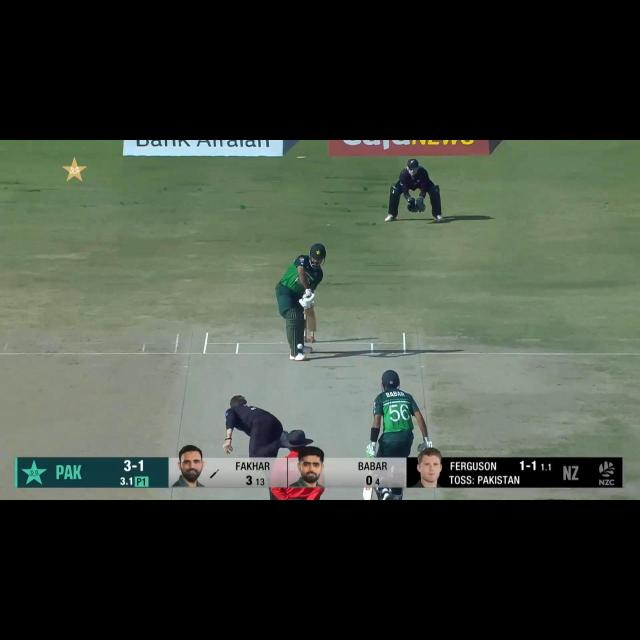bat: (303, 308, 319, 334), (362, 486, 374, 501)
toe: (307, 326, 317, 333)
